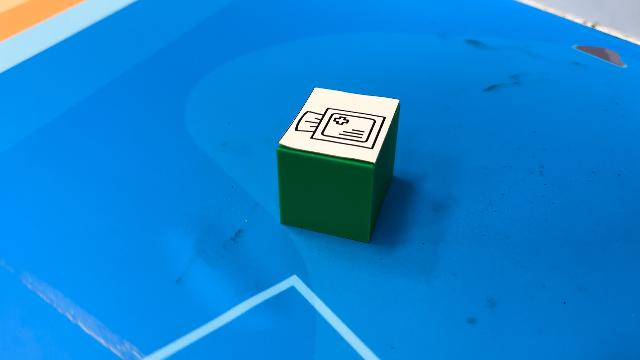napkin: (282, 88, 398, 238)
